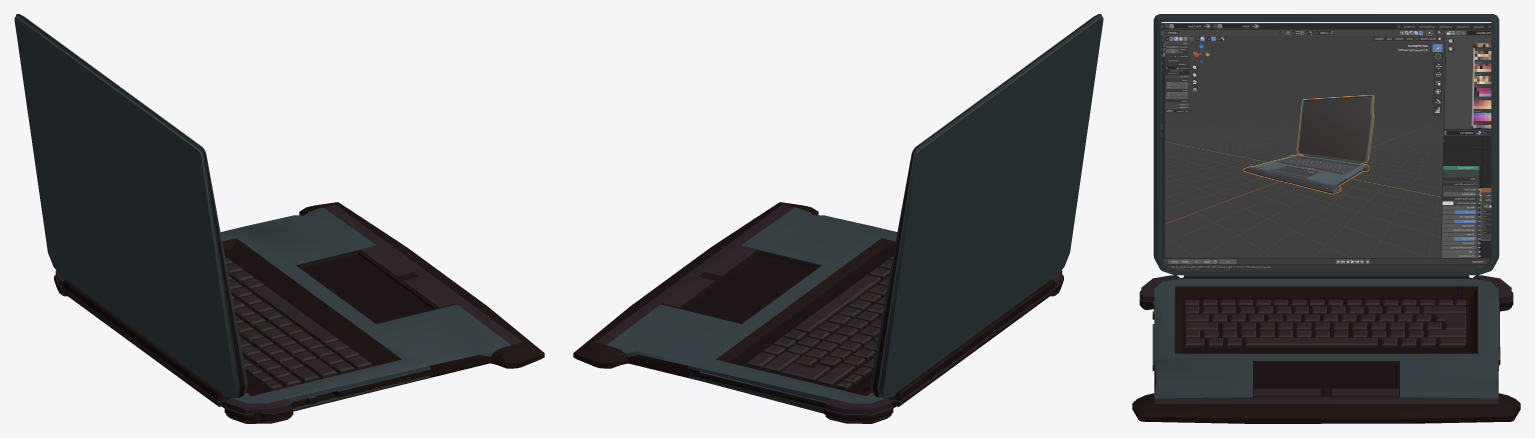
The model's file is GamerLaptop.glb.
3 renders of one model, left to right at view 1: azimuth 30°, elevation 25°; view 2: azimuth 150°, elevation 25°; view 3: azimuth 270°, elevation 25°, orthographic. The views are drawn at different scales.
Parts seen in each view (by area): view 1: Cylinder.003; view 2: Cylinder.003; view 3: Cylinder.003.
Boxes of the visible parts, left/top/right/bottom form: Cylinder.003: left=14, top=14, right=544, bottom=423; Cylinder.003: left=573, top=14, right=1103, bottom=423; Cylinder.003: left=1132, top=14, right=1520, bottom=423.
Size of the model in its own units: 5.18 by 4.2 by 5.6.
2 materials, 2 textured.
